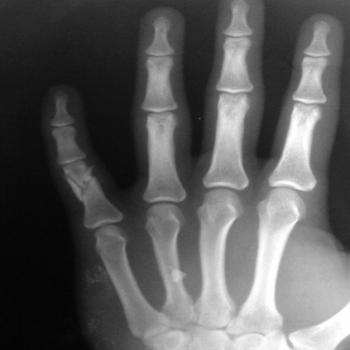Fracture: (63, 165, 105, 207)
